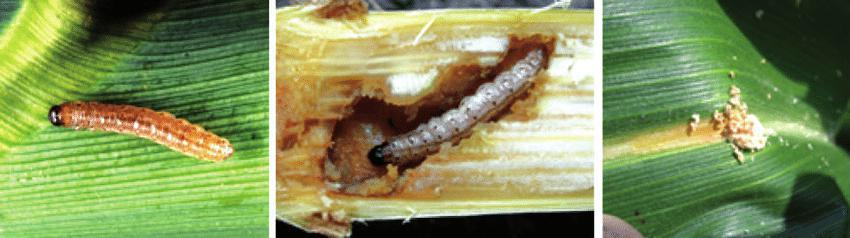caterpillars: (324, 12, 566, 208), (22, 55, 253, 202)
